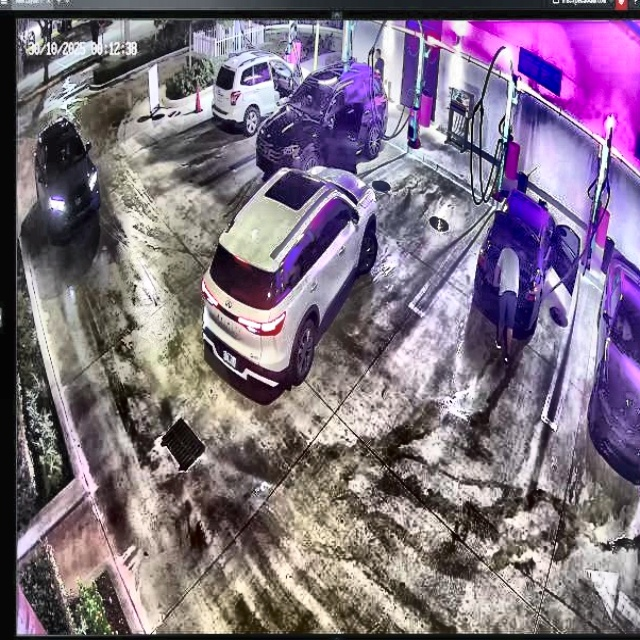Car: (204, 165, 379, 401), (256, 55, 386, 184), (481, 186, 578, 335)
